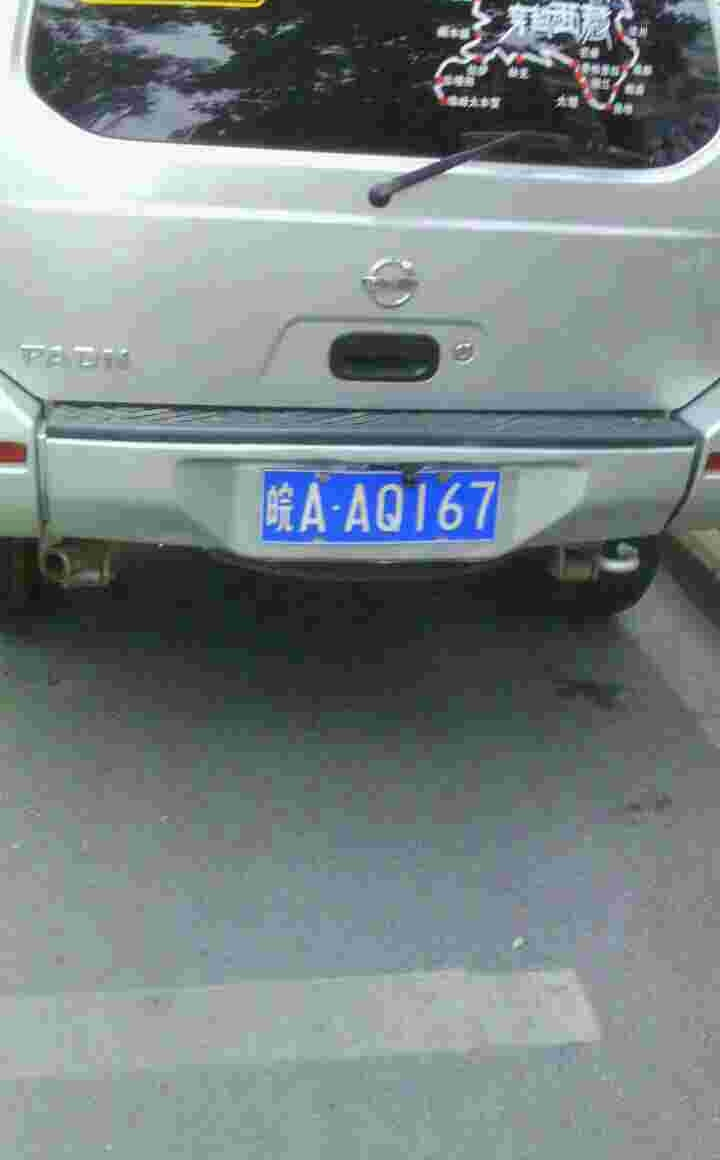license_plate: (257, 475, 501, 543)
